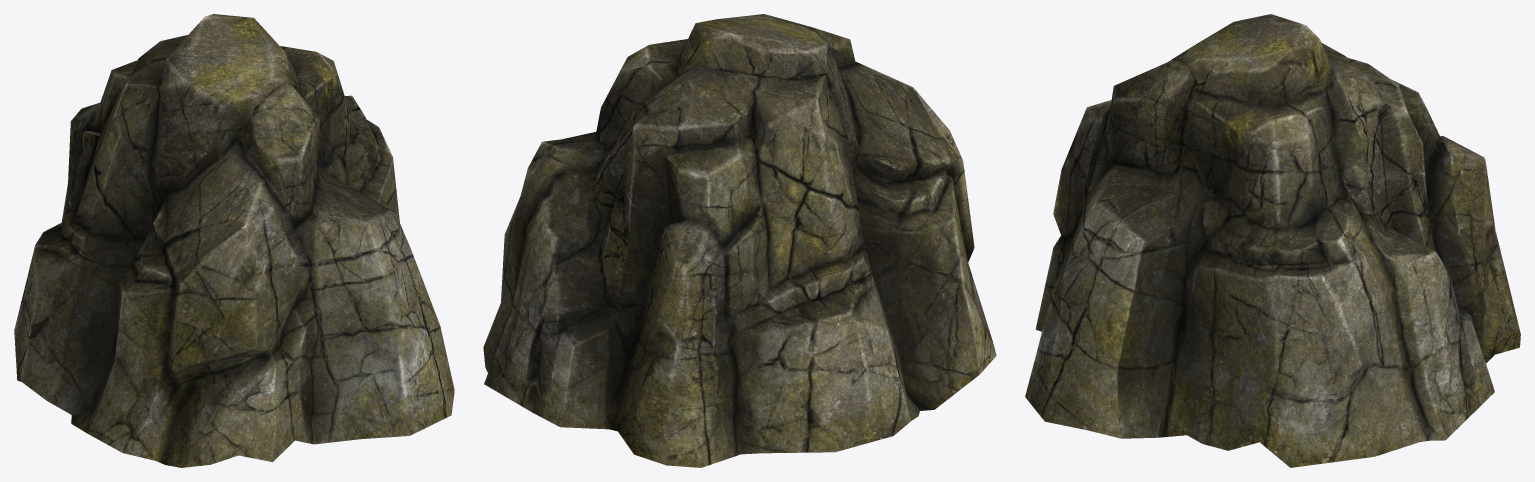
File: Rock 2.fbx
3 renders of one model, left to right at view 1: azimuth 30°, elevation 25°; view 2: azimuth 150°, elevation 25°; view 3: azimuth 270°, elevation 25°, orthographic. The views are drawn at different scales.
Visible parts, largest first — view 1: Rock_big_single_b; view 2: Rock_big_single_b; view 3: Rock_big_single_b.
Part boxes in pixels (bbox=[...]): Rock_big_single_b: bbox=[14, 14, 454, 467]; Rock_big_single_b: bbox=[483, 14, 996, 467]; Rock_big_single_b: bbox=[1025, 14, 1520, 467].
Bounding box in the file's own units: 7471 × 6330 × 8153.
